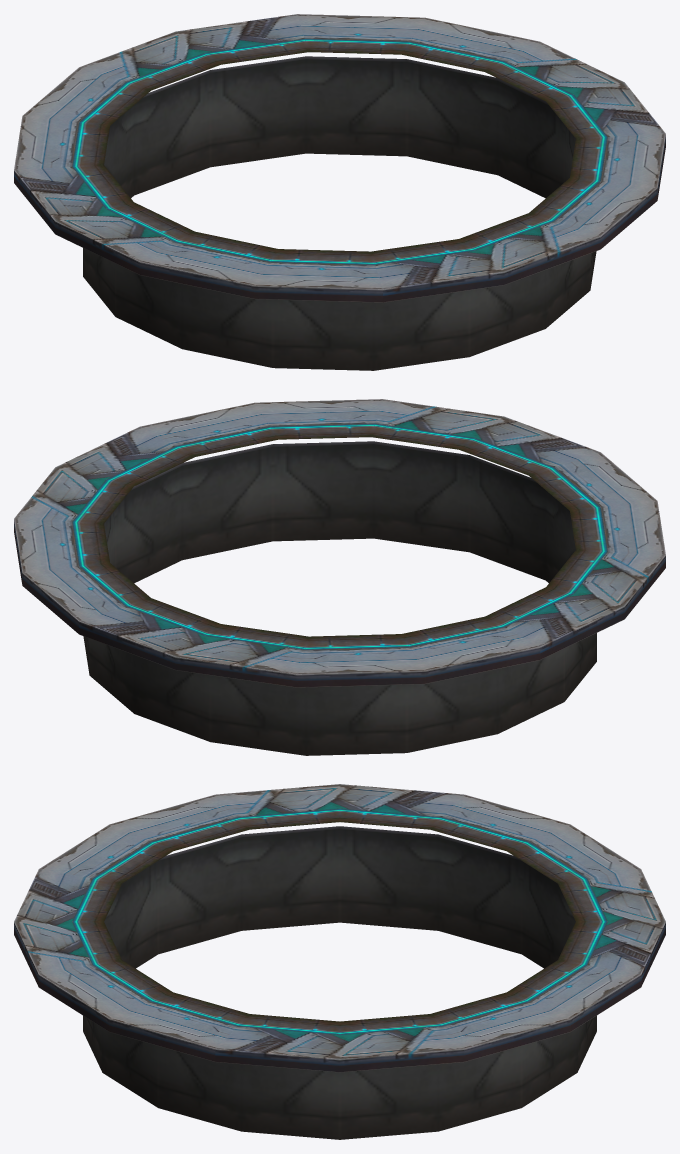
Rendered from yw_gonghuilingdi_jianzhu01.FBX.
3 views of the same model, one above another, from view 1: azimuth 30°, elevation 25°; view 2: azimuth 150°, elevation 25°; view 3: azimuth 270°, elevation 25° (orthographic).
Parts seen in each view (by area): view 1: yw_gonghuilingdi_jianzhu01; view 2: yw_gonghuilingdi_jianzhu01; view 3: yw_gonghuilingdi_jianzhu01.
Boxes of the visible parts, x1,y1,x2,y2 form: yw_gonghuilingdi_jianzhu01: (14,14,665,370); yw_gonghuilingdi_jianzhu01: (14,399,665,755); yw_gonghuilingdi_jianzhu01: (14,784,665,1139).
Bounding box in the file's own units: 944 × 175 × 944.
